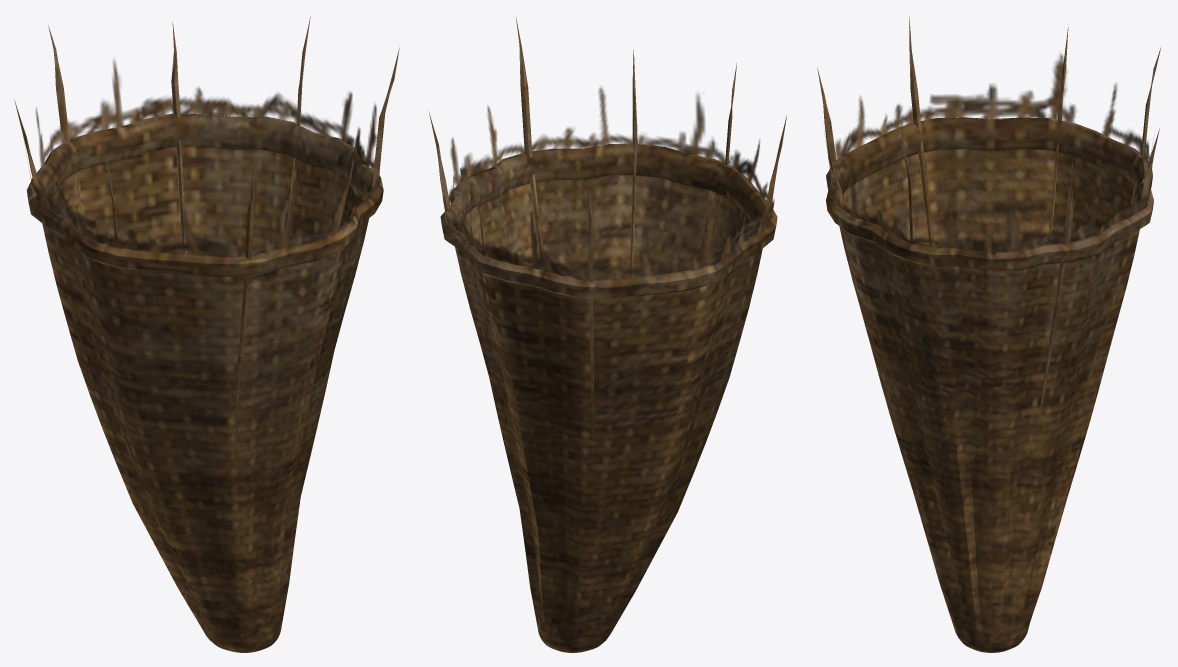
File: xi_oam_wicker_cone.gltf
3 views of the same model, side by side, from view 1: azimuth 30°, elevation 25°; view 2: azimuth 150°, elevation 25°; view 3: azimuth 270°, elevation 25° (orthographic). The views are drawn at different scales.
Visible parts, largest first — view 1: xi_oam_wicker_cone; view 2: xi_oam_wicker_cone; view 3: xi_oam_wicker_cone.
Boxes of the visible parts, x1,y1,x2,y2 form: xi_oam_wicker_cone: [14, 15, 399, 652]; xi_oam_wicker_cone: [429, 16, 786, 652]; xi_oam_wicker_cone: [817, 16, 1160, 652].
Size of the model in its own units: 0.3384 by 0.6111 by 0.3342.
Materials: 1 (1 with a texture image).
